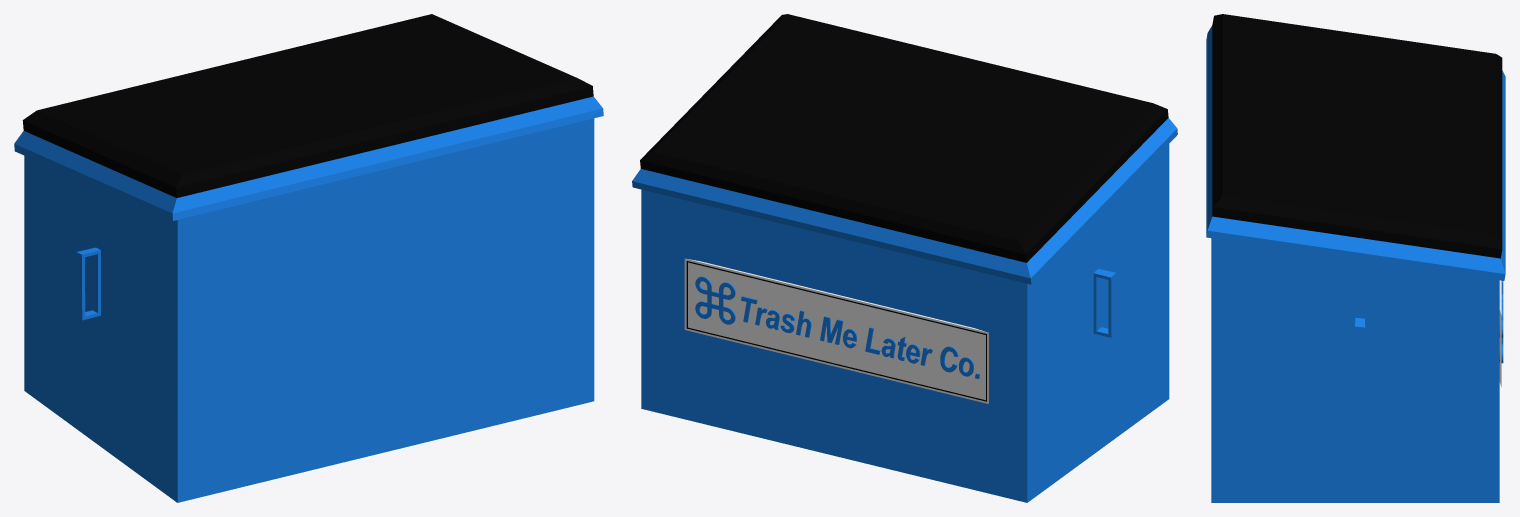
Rendered from dumpster.fbx.
The picture shows the model from 3 angles, left to right: view 1: azimuth 30°, elevation 25°; view 2: azimuth 150°, elevation 25°; view 3: azimuth 270°, elevation 25°; orthographic projection. The views are drawn at different scales.
Parts seen in each view (by area): view 1: dumpster; view 2: dumpster; view 3: dumpster.
Boxes of the visible parts, <box> form: dumpster: <box>14,14,603,502</box>; dumpster: <box>632,14,1177,502</box>; dumpster: <box>1206,14,1505,502</box>.
Bounding box in the file's own units: 694 × 468 × 420.
